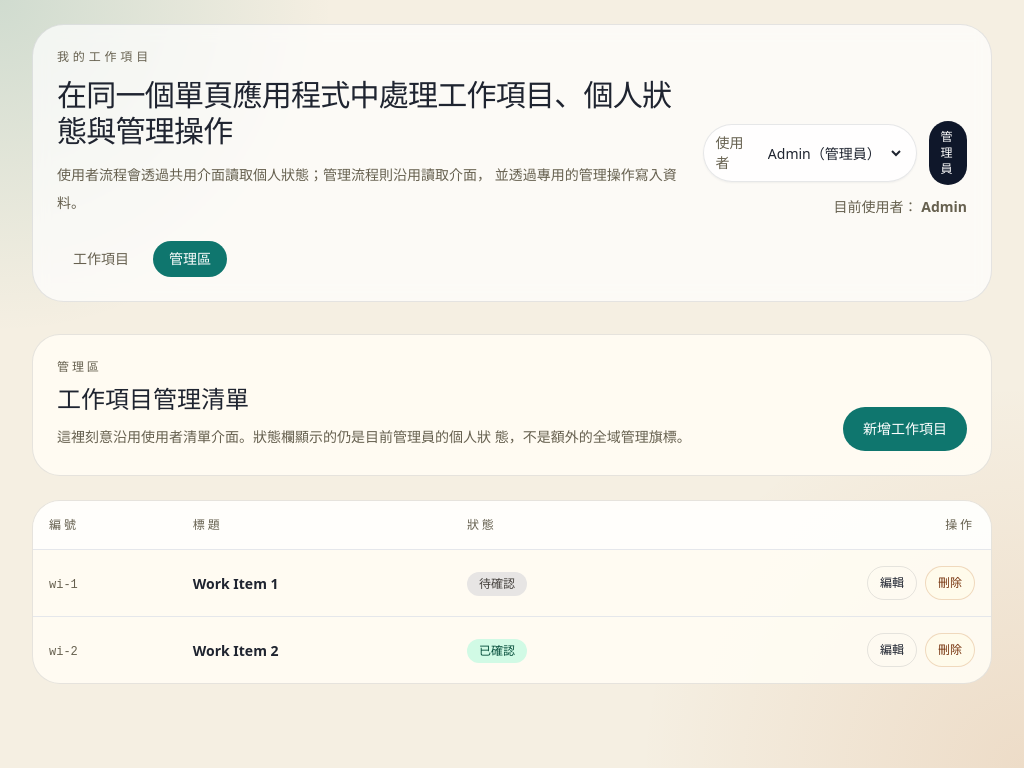
it: AdminWorkItemsPage › AdminWorkItemsPage_WhenDeleteSucceeds_RefreshesTheList
The width and height of the screenshot is (1024, 768).
Expected: the text "Work Item 1" is shown, x1=193 y1=574 x2=279 y2=593
Click the button "刪除" in the row of "wi-1" at [950, 583], box x1=925 y1=566 x2=975 y2=600
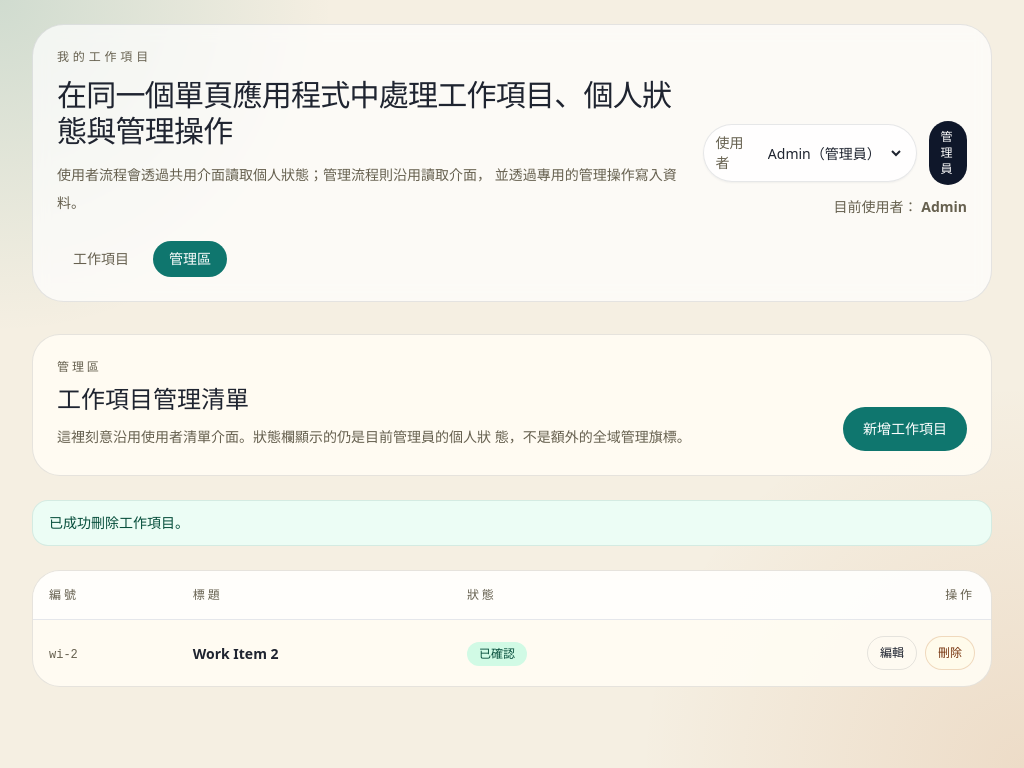
Expected: the text "Work Item 2" is shown, x1=193 y1=644 x2=279 y2=663
Now the text "Work Item 1" is gone
Now the text "已成功刪除工作項目。" is shown, box x1=32 y1=500 x2=992 y2=546
